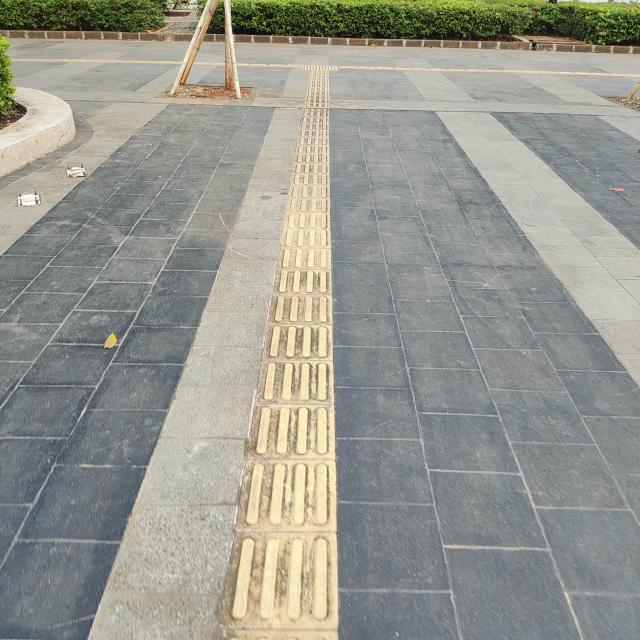lurus: (245, 100, 346, 640)
